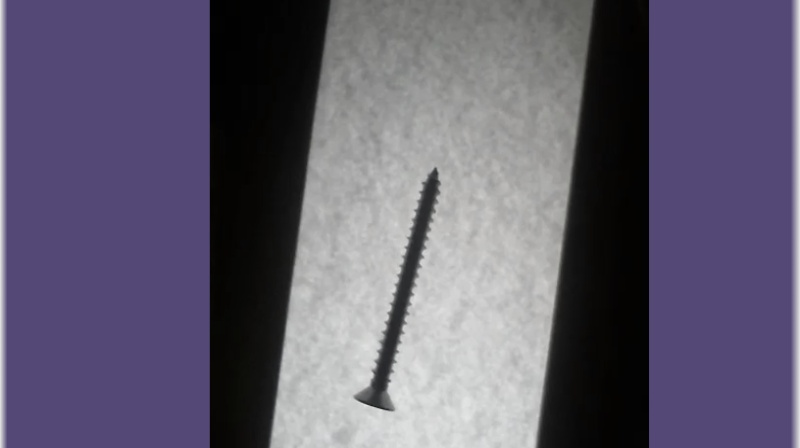S002: (349, 159, 442, 414)
